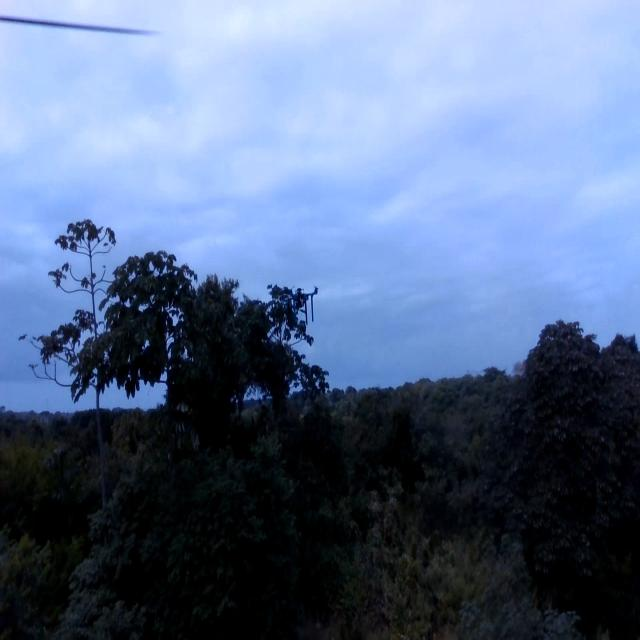-uav-: (276, 276, 323, 340)
